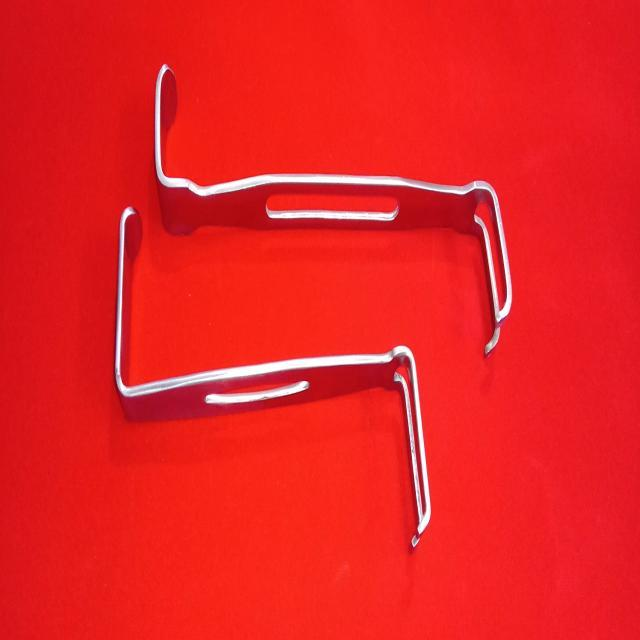Czerny Retractor: (113, 203, 437, 566), (152, 51, 516, 366)
